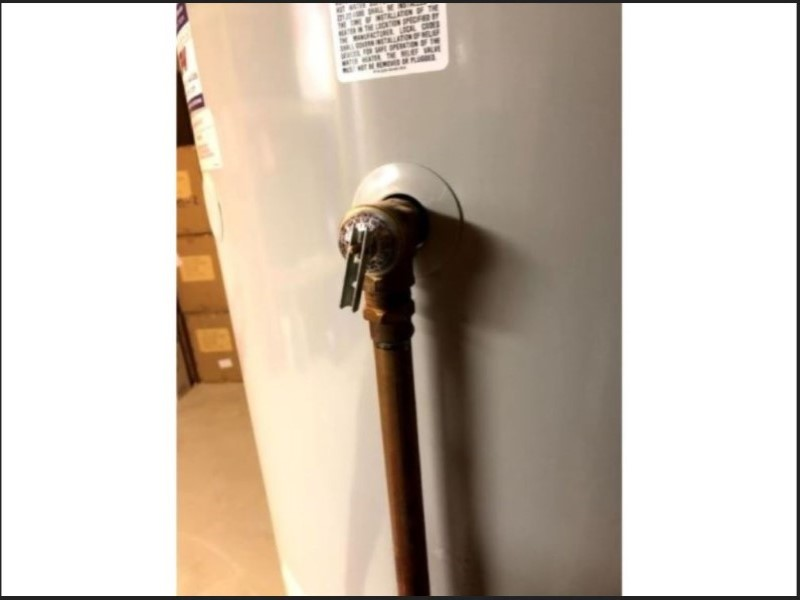Valve: (336, 203, 409, 320)
